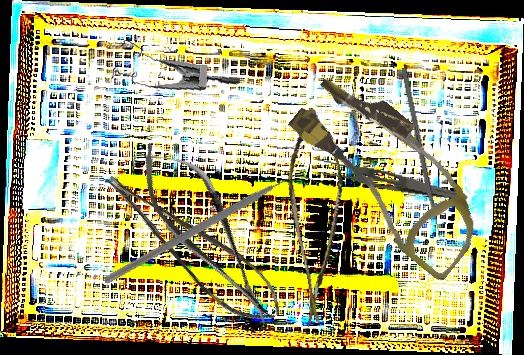Cannula: (271, 62, 508, 284)
Chopper: (103, 113, 315, 348)
Dressing Forceps: (311, 155, 471, 202)
Micro Scissor: (101, 146, 291, 341), (121, 126, 292, 340), (264, 105, 372, 331)
Pusher: (400, 67, 444, 245)
Speculum: (106, 23, 242, 104)
